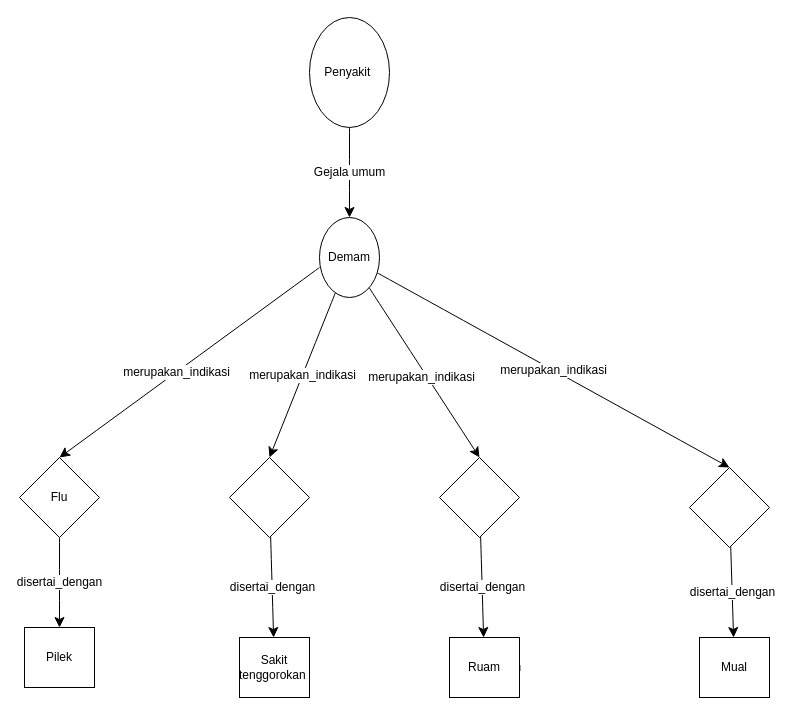
Some shapes in this 792 by 715 pixel diagram are drawn without their labels. The centre of each missing label's shape, as x and y in pixels:
DBD: pixel 479 497
Ispa: pixel 269 497
Tipes: pixel 729 507
